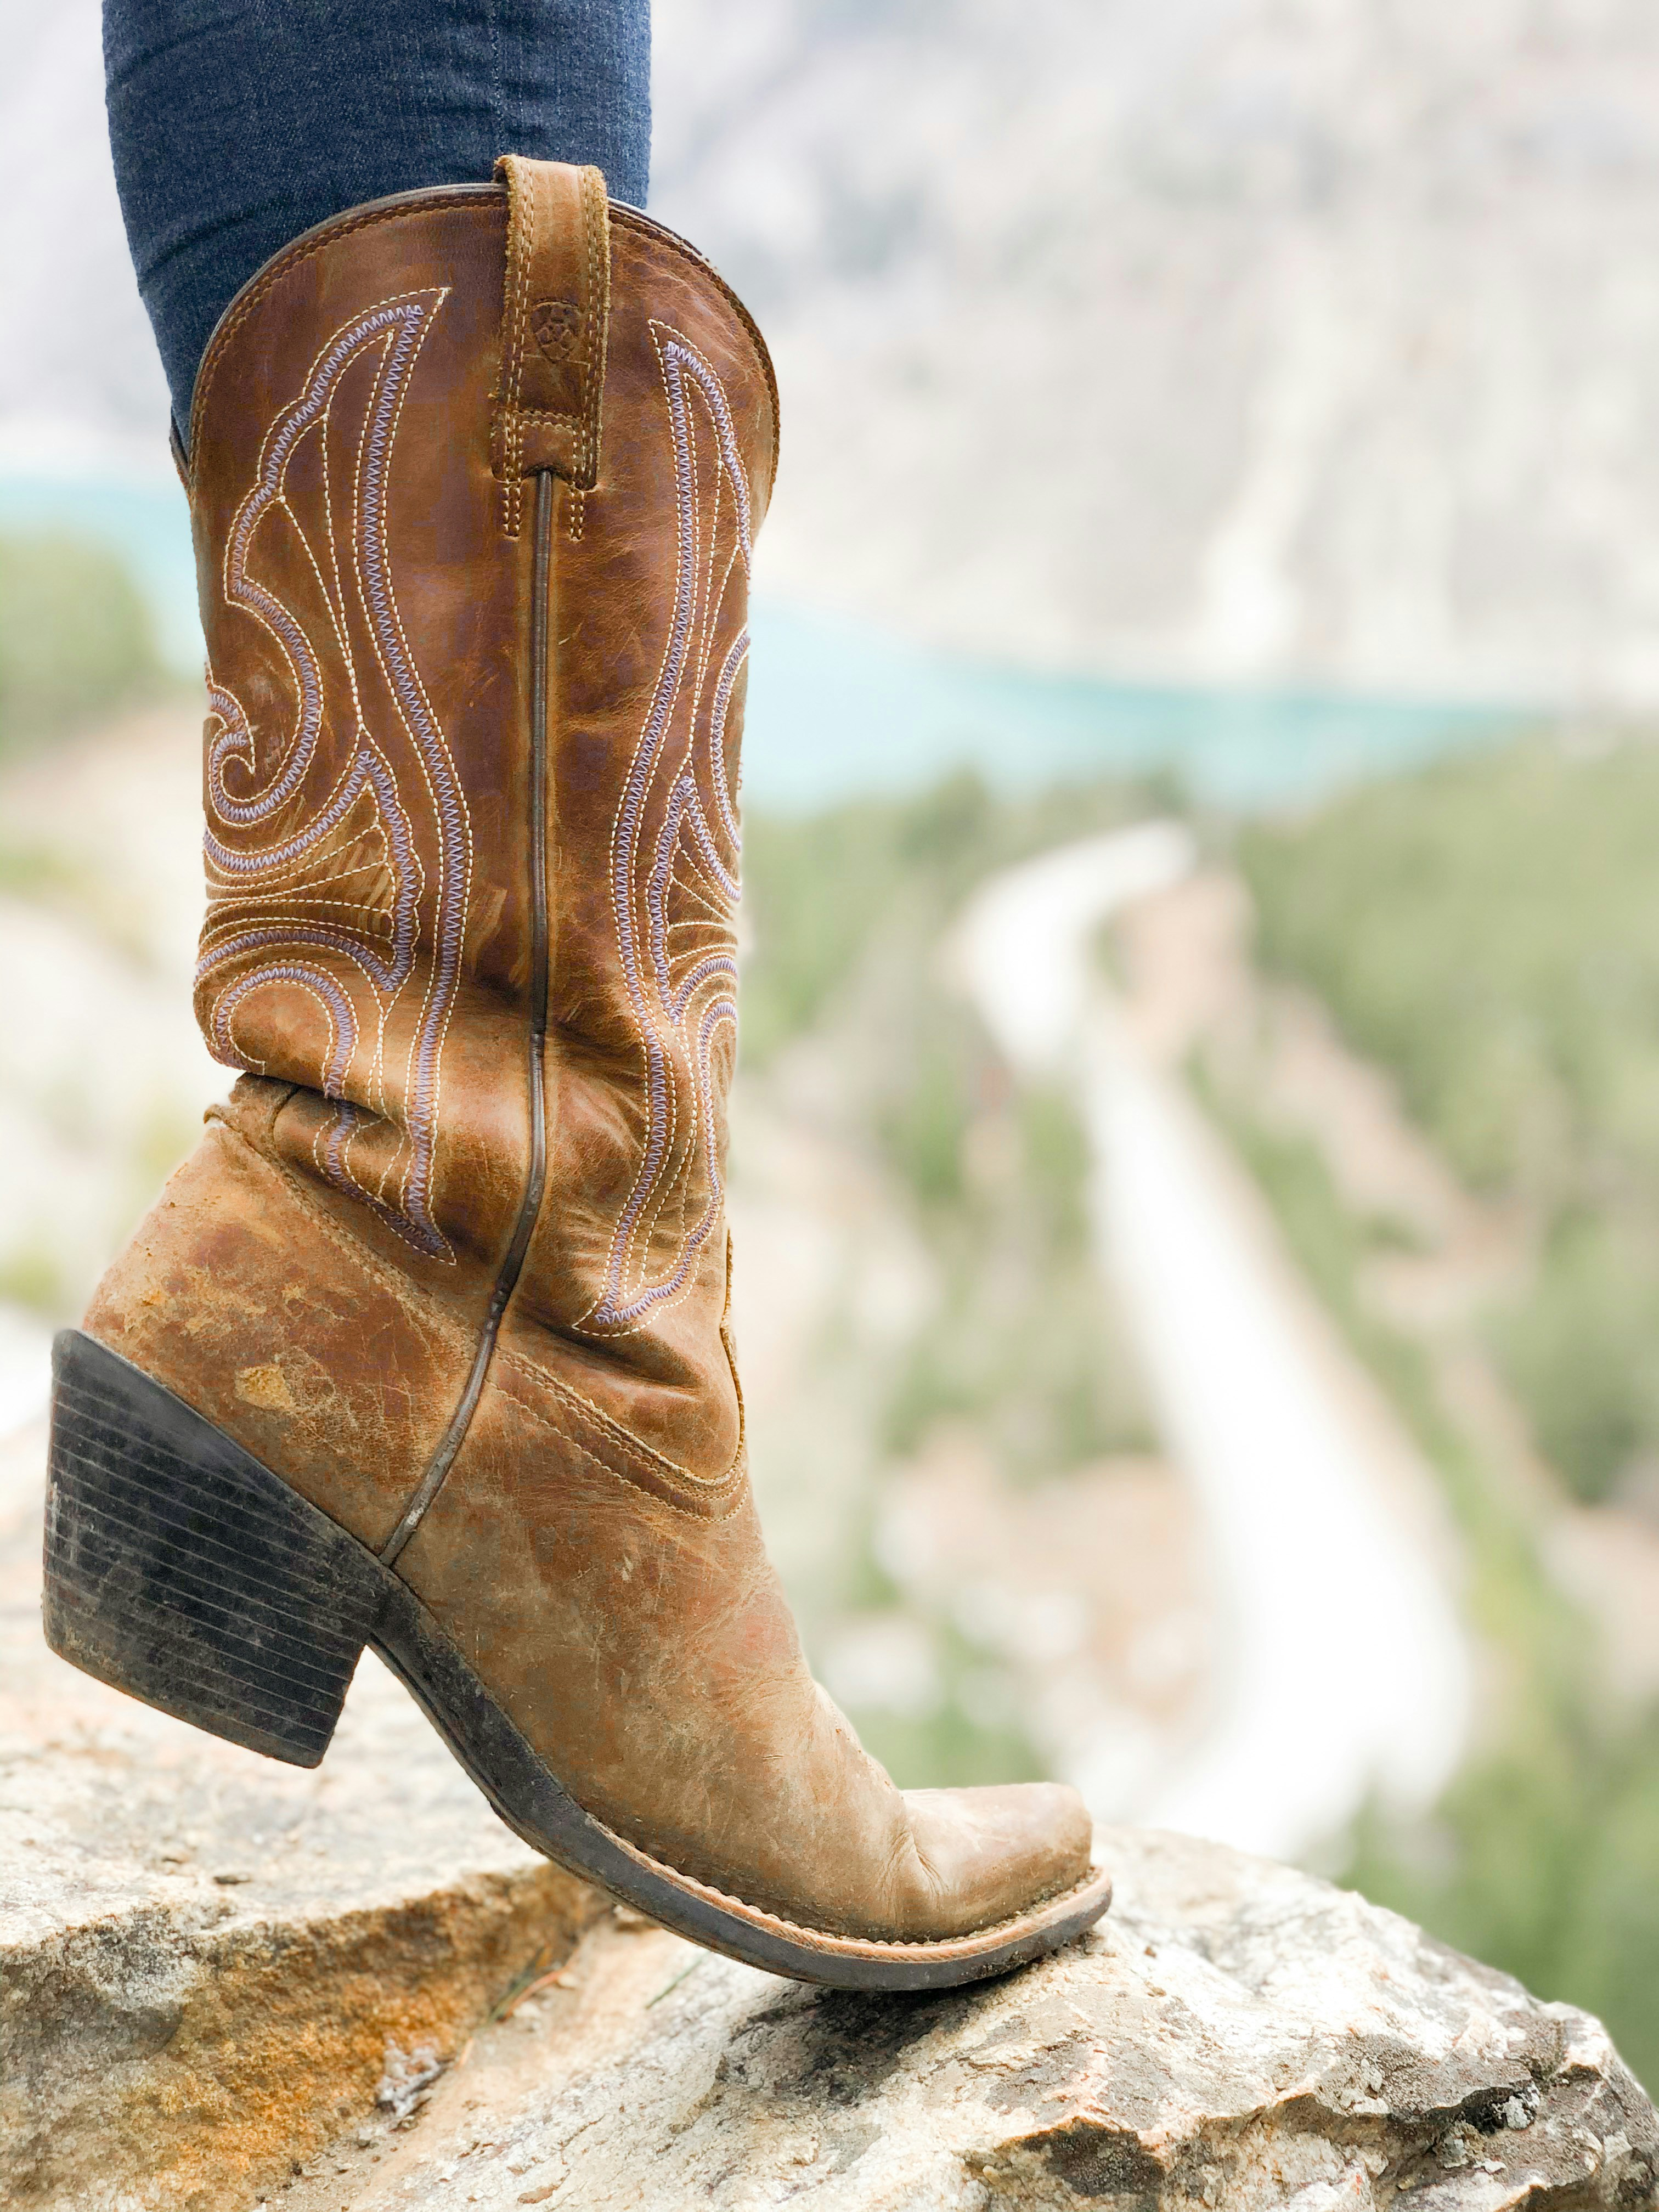Footwear: (23, 179, 1209, 2031)
